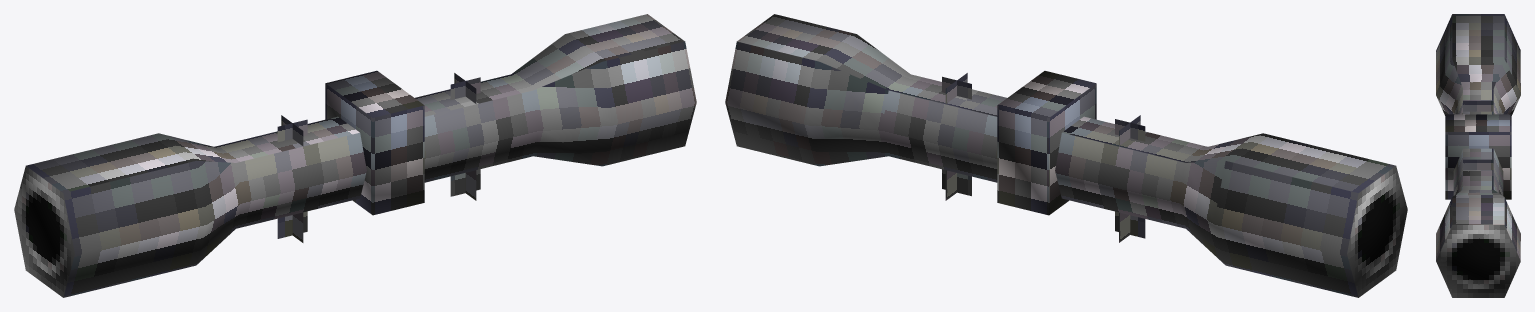
File: barretm82A1__N002_scope_v0100.glb
3 views of the same model, side by side, from view 1: azimuth 30°, elevation 25°; view 2: azimuth 150°, elevation 25°; view 3: azimuth 270°, elevation 25° (orthographic). The views are drawn at different scales.
Visible parts, largest first — view 1: N002_scope_v0100; view 2: N002_scope_v0100; view 3: N002_scope_v0100.
Boxes of the visible parts, x1,y1,x2,y2 form: N002_scope_v0100: [14, 14, 696, 297]; N002_scope_v0100: [725, 14, 1407, 297]; N002_scope_v0100: [1436, 14, 1520, 297].
Bounding box in the file's own units: 0.3126 × 0.058 × 0.053.
Materials: 2 (2 with a texture image).
